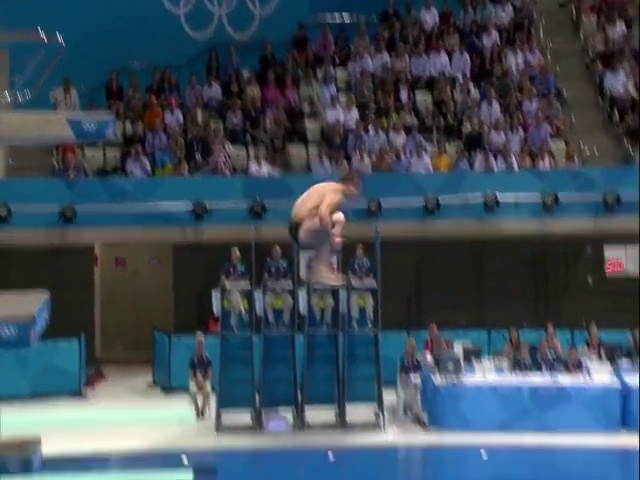diver: (289, 172, 366, 287)
